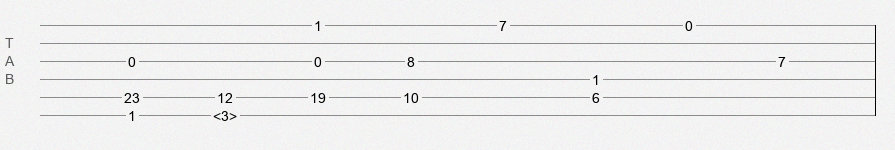0: (128, 54, 136, 64), (314, 54, 322, 64), (685, 18, 693, 28)
1: (128, 108, 136, 118), (314, 18, 322, 28), (592, 72, 600, 82)
10: (403, 90, 419, 100)
12: (217, 90, 233, 100)
19: (310, 90, 326, 100)
23: (124, 90, 140, 100)
6: (592, 90, 600, 100)
7: (499, 18, 507, 28), (778, 54, 786, 64)
8: (407, 54, 415, 64)
harmonic: (213, 108, 237, 118)
